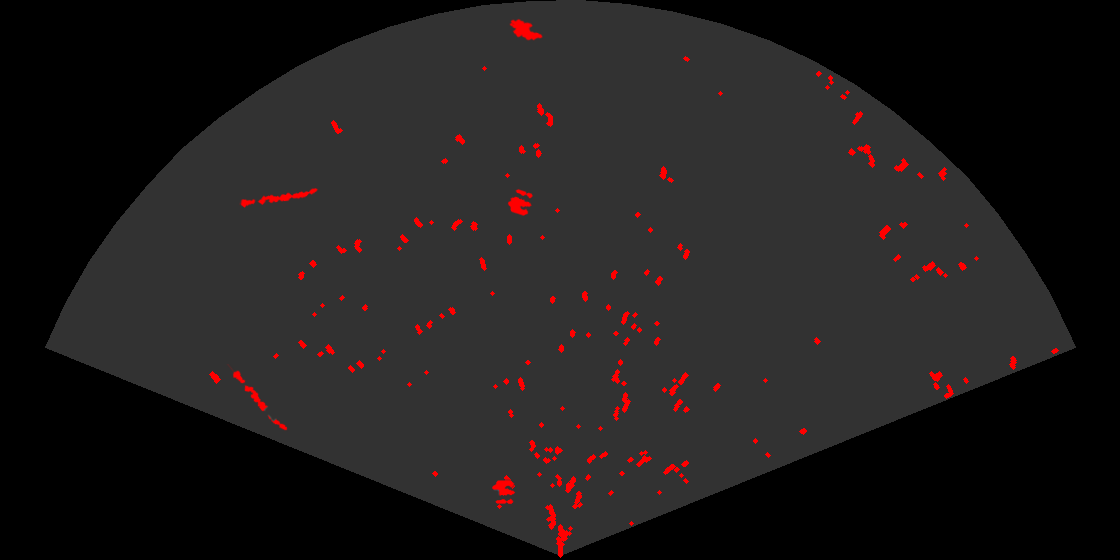AUV: (508, 17, 544, 42)
ball: (506, 188, 534, 217), (491, 479, 517, 506)
chain: (225, 364, 289, 432), (239, 187, 320, 209)
